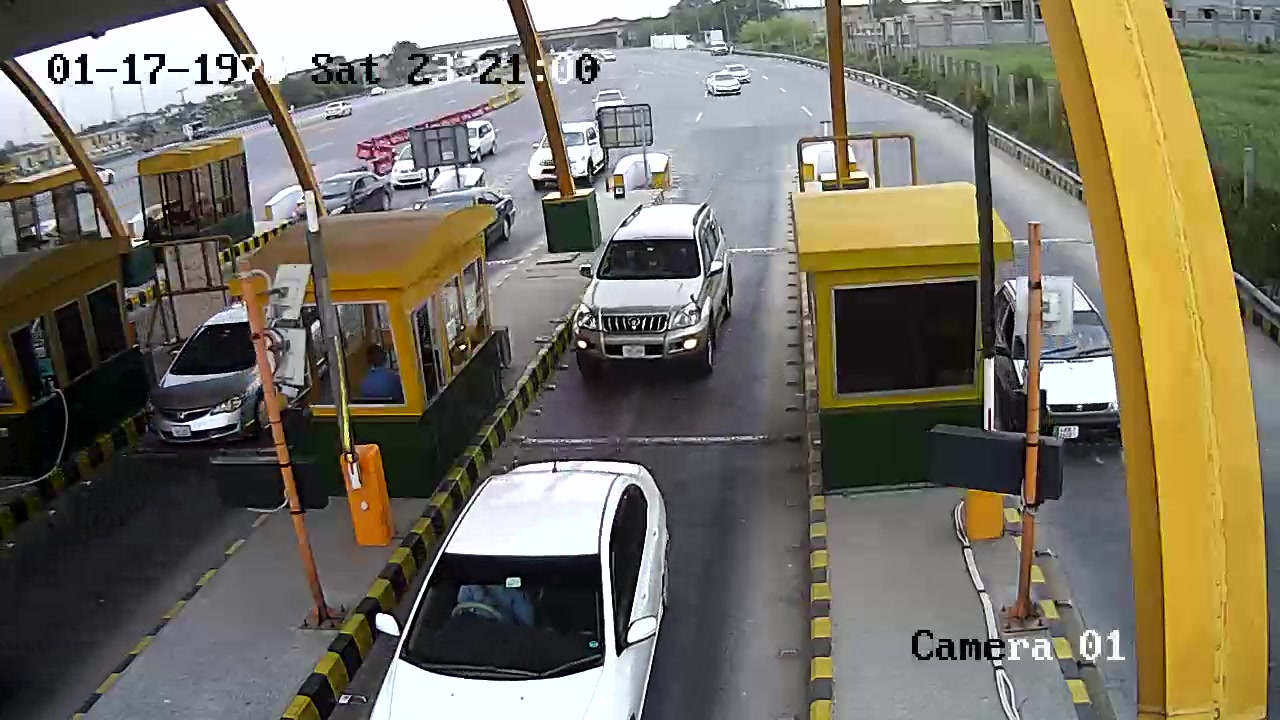F1: (568, 195, 750, 389)
